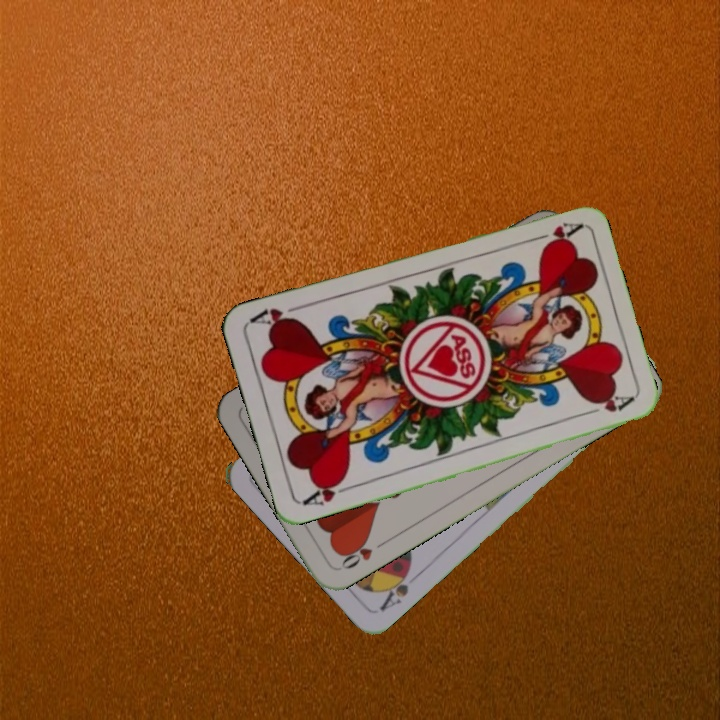HA: (299, 474, 357, 509), (524, 218, 583, 249)
HO: (336, 534, 389, 573)
SA: (375, 562, 422, 614)
